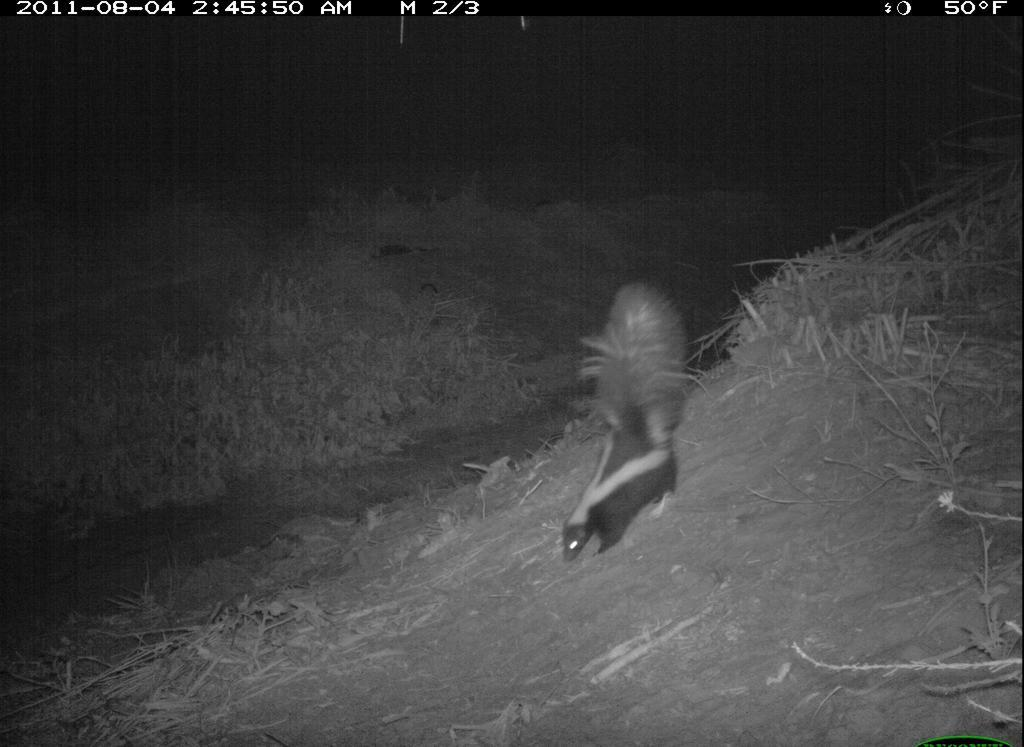skunk: (547, 282, 696, 568)
